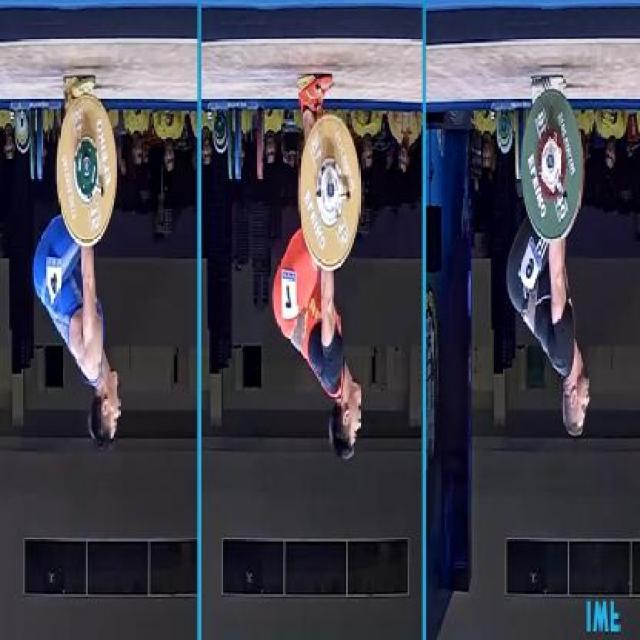Barbell: (326, 176, 337, 207), (81, 154, 92, 178), (546, 148, 556, 174)
